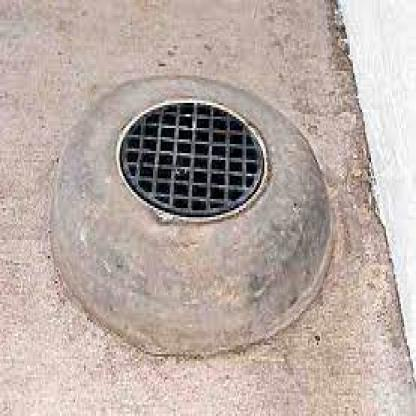closed manhole-not overflowing-: (60, 69, 337, 354)
